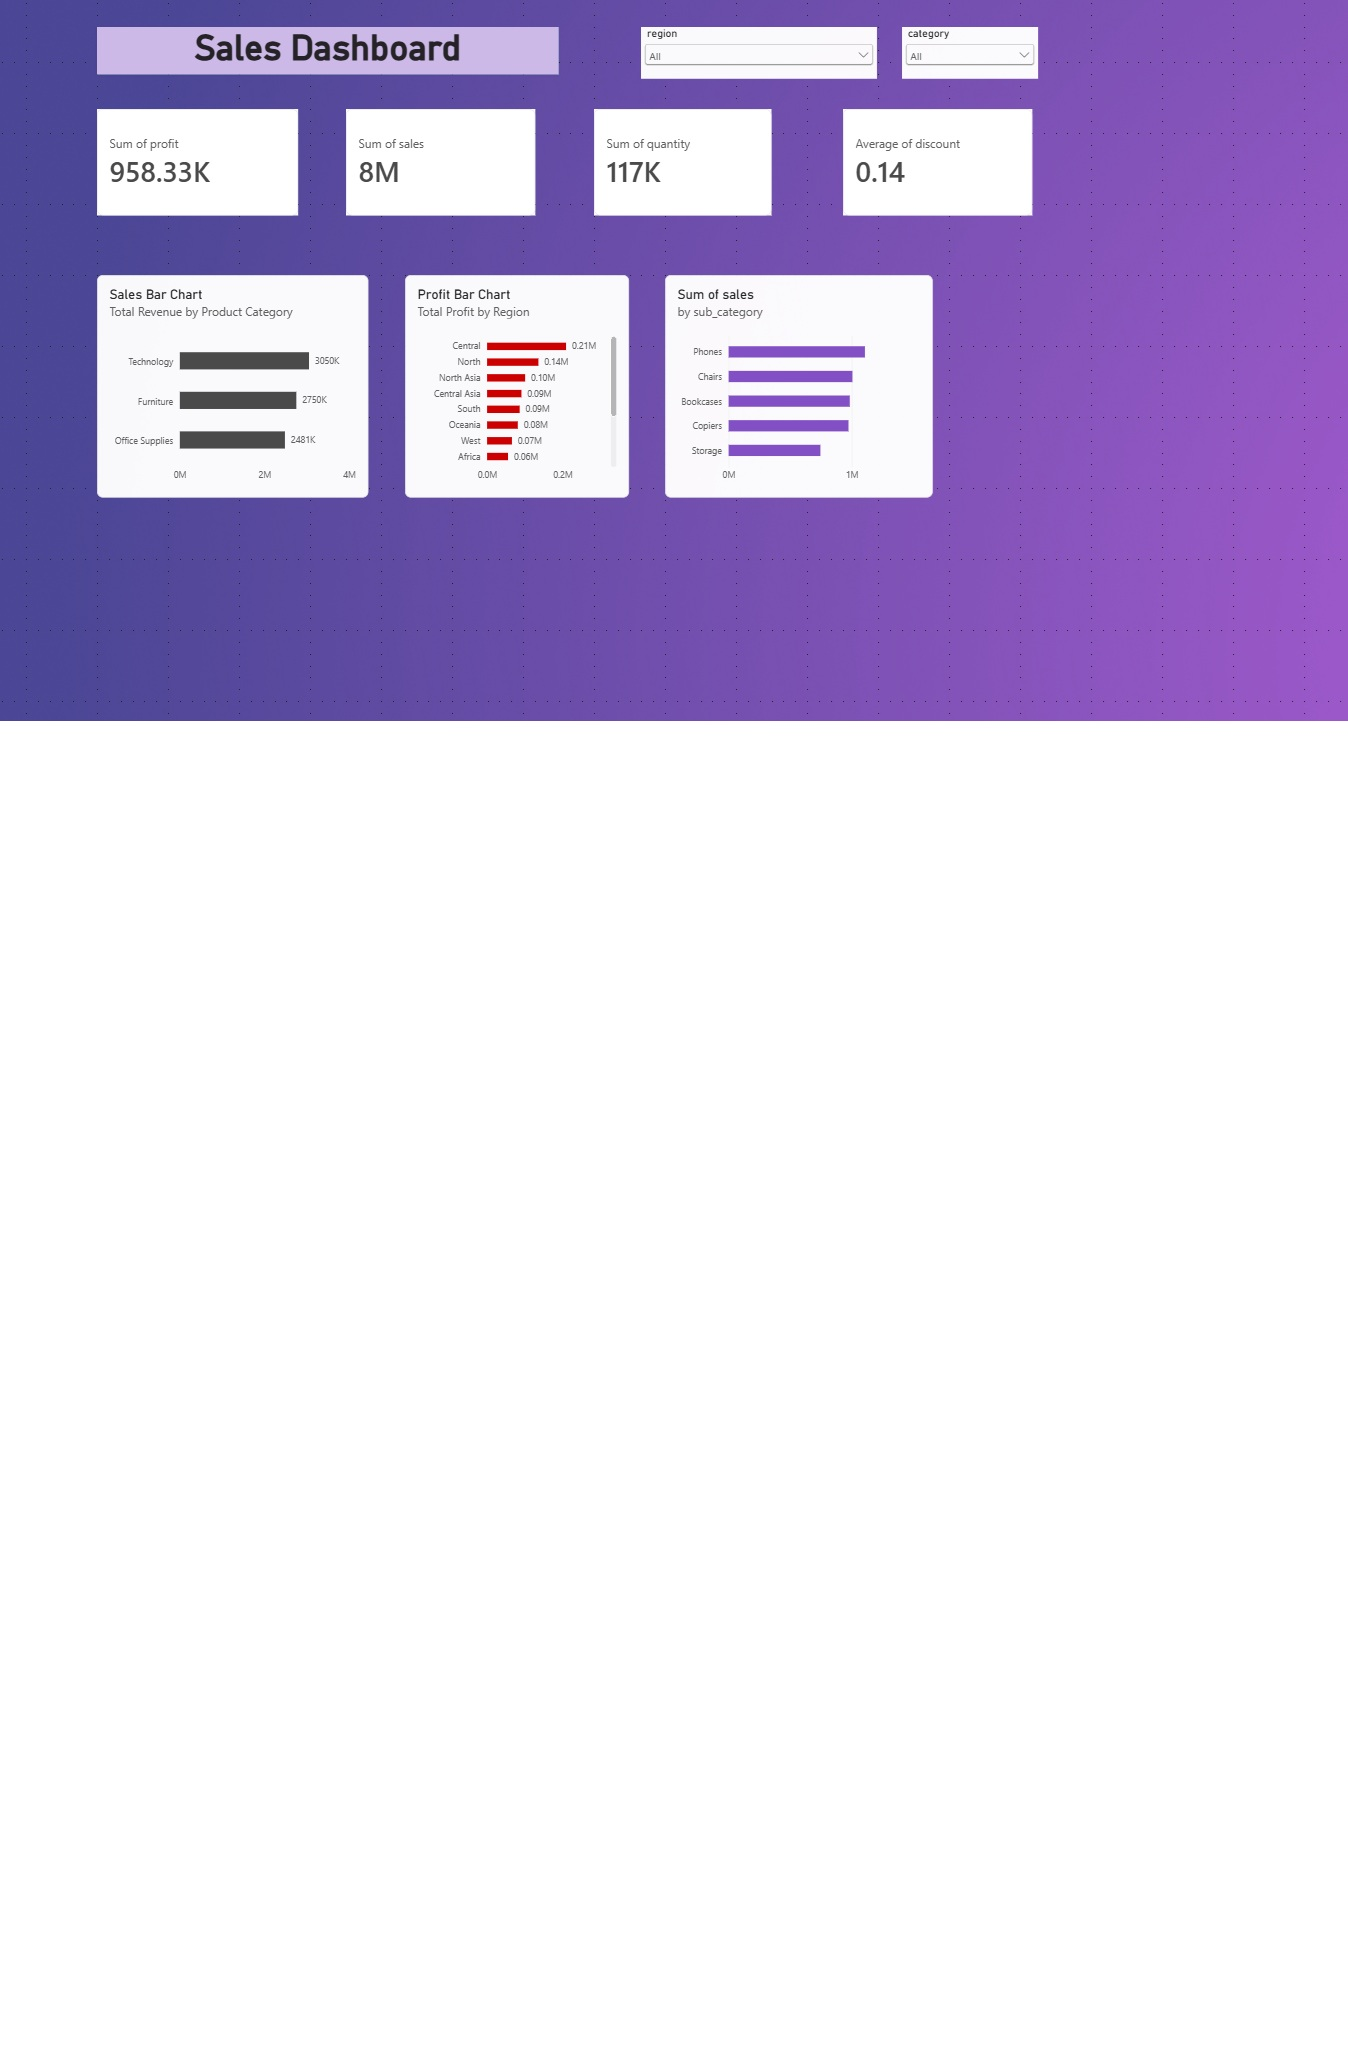

What the dashboard file says about the page in this screenshot:
{"tool":"powerbi","page":{"name":"Sales Overview","canvas":[1920,1080],"ordinal":0},"visuals":[{"type":"cardVisual","fields":{"Data":["Sum(SuperStoreOrders.sales)"]},"box":[528,160,256,144],"z":0},{"type":"cardVisual","fields":{"Data":["Sum(SuperStoreOrders.profit)"]},"box":[192,160,272,144],"z":1000},{"type":"cardVisual","fields":{"Data":["Sum(SuperStoreOrders.quantity)"]},"box":[864,160,240,144],"z":2000},{"type":"cardVisual","fields":{"Data":["Avg(SuperStoreOrders.discount)"]},"box":[1200,160,256,144],"z":3000},{"type":"clusteredBarChart","title":"Sales Bar Chart","fields":{"Category":["SuperStoreOrders.category"],"Y":["Sum(SuperStoreOrders.sales)"]},"box":[192,384,367.1,300.6],"z":4000},{"type":"clusteredBarChart","title":"Profit Bar Chart","fields":{"Category":["SuperStoreOrders.region"],"Y":["Sum(SuperStoreOrders.profit)"]},"box":[608,384,303.3,300.6],"z":5000},{"type":"slicer","fields":{"Values":["SuperStoreOrders.region"]},"box":[928,48,319.2,70.5],"z":6000},{"type":"slicer","fields":{"Values":["SuperStoreOrders.category"]},"box":[1280,48,183.5,70.5],"z":7000},{"type":"clusteredBarChart","fields":{"Category":["SuperStoreOrders.sub_category"],"Y":["Sum(SuperStoreOrders.sales)"]},"box":[960,384,361.8,300.5],"z":8000},{"type":"textbox","title":"Sales Dashboard","box":[192,48,624,64],"z":8001}]}

Visuals, with their boxes in screenshot pixels (x1, y1, x2, y2):
cardVisual - Sum(SuperStoreOrders.sales): 339 103 529 210
cardVisual - Sum(SuperStoreOrders.profit): 89 103 291 210
cardVisual - Sum(SuperStoreOrders.quantity): 588 103 767 210
cardVisual - Avg(SuperStoreOrders.discount): 838 103 1028 210
"Sales Bar Chart" clusteredBarChart: 89 269 362 493
"Profit Bar Chart" clusteredBarChart: 398 269 624 493
slicer - SuperStoreOrders.region: 636 20 873 72
slicer - SuperStoreOrders.category: 898 20 1034 72
clusteredBarChart - SuperStoreOrders.sub_category x Sum(SuperStoreOrders.sales): 660 269 929 493
"Sales Dashboard" textbox: 89 20 553 67
